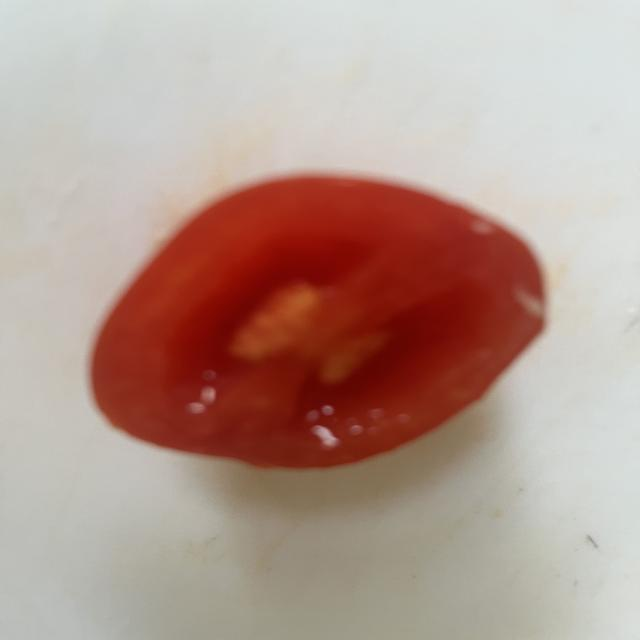sliced_tomato: (92, 177, 546, 468)
